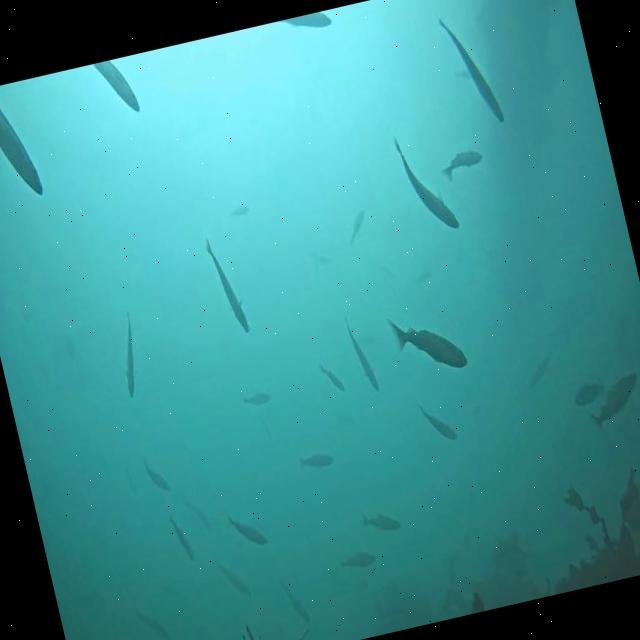fish: (438, 9, 504, 130), (390, 126, 460, 236), (388, 304, 468, 381), (0, 81, 45, 207), (204, 234, 250, 336), (584, 367, 640, 429), (110, 314, 148, 399), (91, 54, 140, 119), (417, 396, 457, 451), (348, 328, 381, 394), (227, 508, 270, 552), (438, 144, 486, 182), (279, 576, 310, 628), (524, 349, 560, 389), (360, 503, 401, 538), (166, 512, 194, 563), (281, 10, 333, 36), (219, 560, 251, 600), (570, 377, 608, 407), (134, 607, 167, 640), (344, 205, 372, 242), (184, 492, 209, 530), (341, 548, 376, 574), (145, 458, 170, 494), (320, 361, 346, 395), (298, 450, 334, 472), (242, 388, 272, 409), (228, 202, 250, 216)
